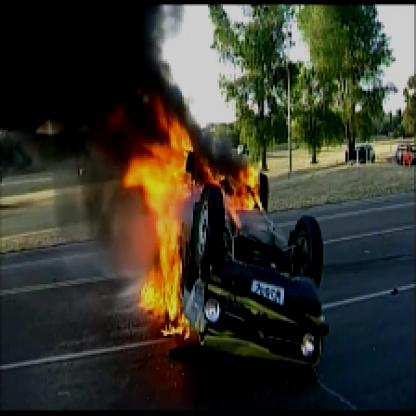Fire: (111, 86, 273, 344)
